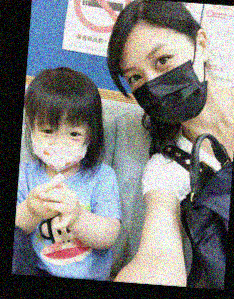with_mask: (120, 39, 209, 123), (30, 116, 90, 173)
